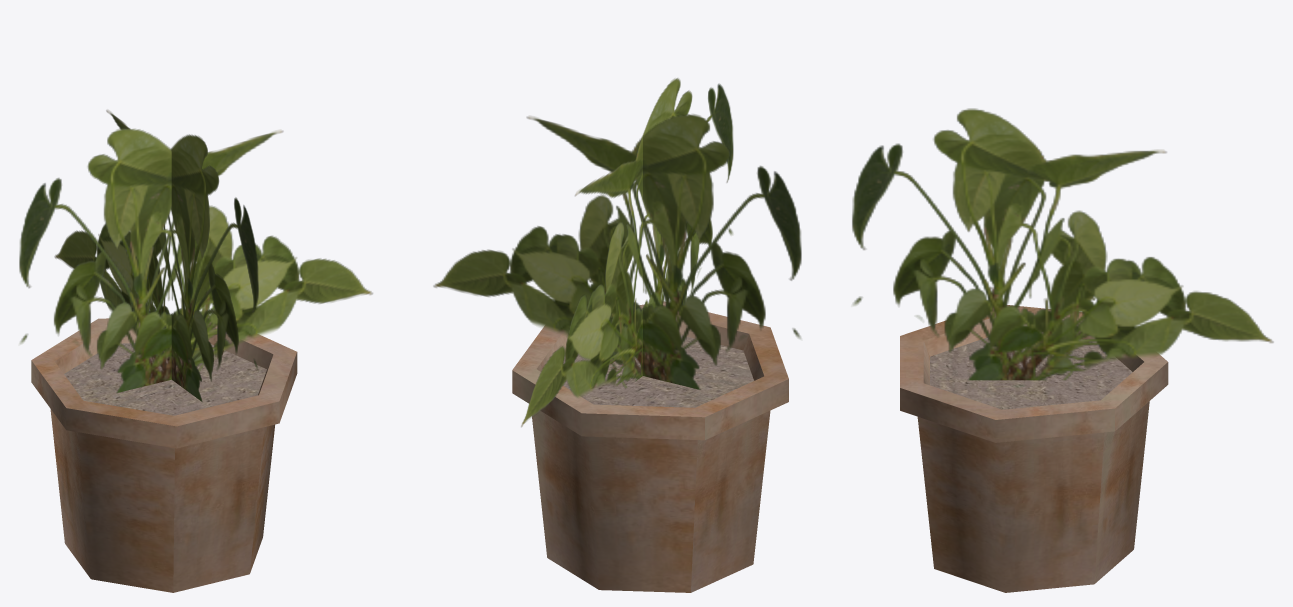
The model's file is plant_3.glb.
3 renders of one model, left to right at view 1: azimuth 30°, elevation 25°; view 2: azimuth 150°, elevation 25°; view 3: azimuth 270°, elevation 25°, orthographic. The views are drawn at different scales.
Parts seen in each view (by area): view 1: Plants_02; view 2: Plants_02; view 3: Plants_02.
Boxes of the visible parts, x1=… form: Plants_02: x1=19, y1=110, x2=372, y2=592; Plants_02: x1=433, y1=78, x2=801, y2=592; Plants_02: x1=852, y1=108, x2=1273, y2=592.
Bounding box in the file's own units: 0.8497 × 0.966 × 0.8432.
Materials: 2 (2 with a texture image).
